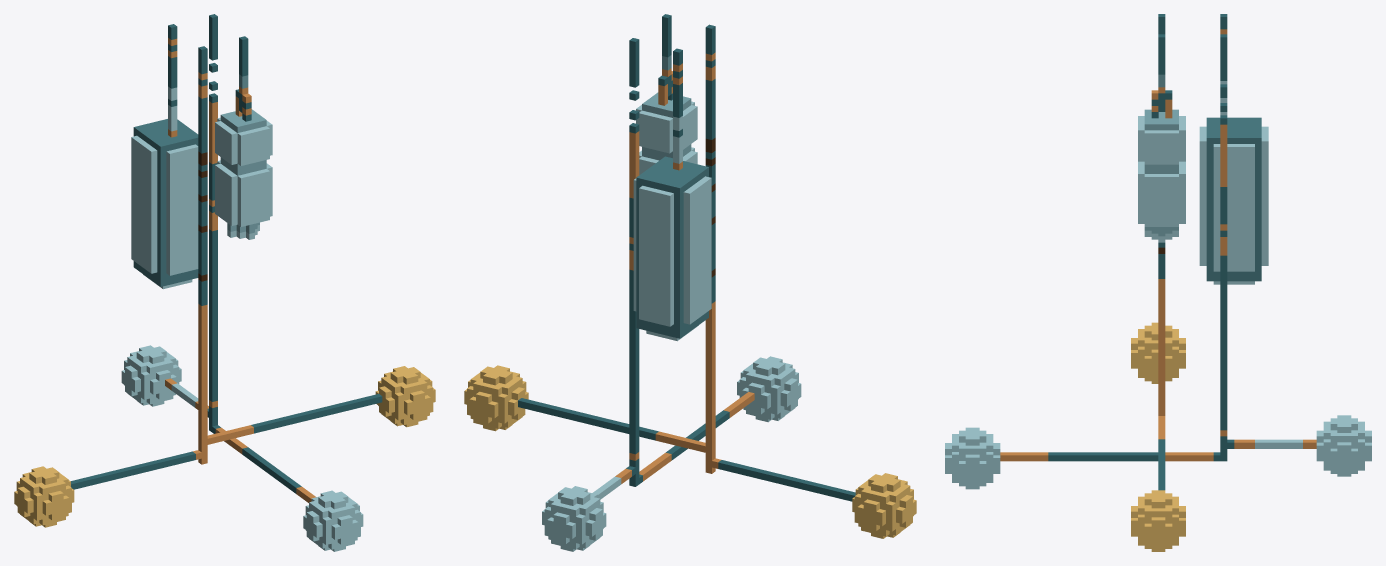
Rendered from Nha-0.obj.
3 views of the same model, side by side, from view 1: azimuth 30°, elevation 25°; view 2: azimuth 150°, elevation 25°; view 3: azimuth 270°, elevation 25° (orthographic). The views are drawn at different scales.
Bounding box in the file's own units: 7 × 7.2 × 6.2.
1 material, 1 textured.
